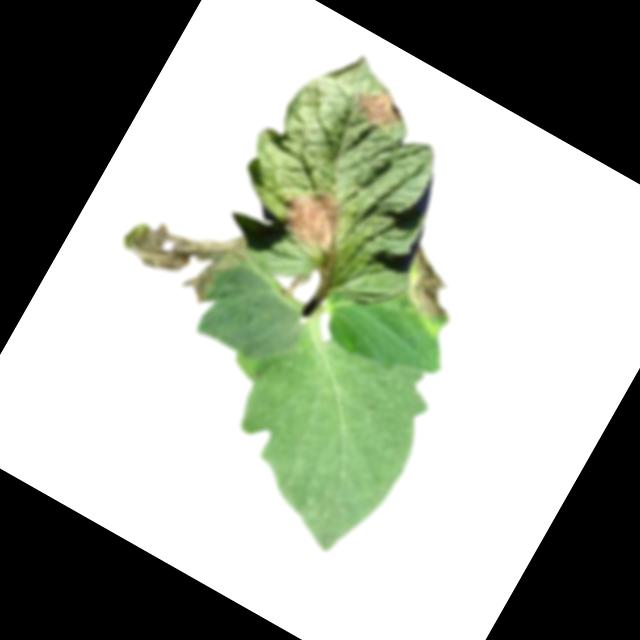Late_blight: (113, 184, 258, 315), (383, 243, 481, 343), (269, 176, 360, 265), (345, 72, 414, 137)
healthy: (173, 289, 456, 569)
